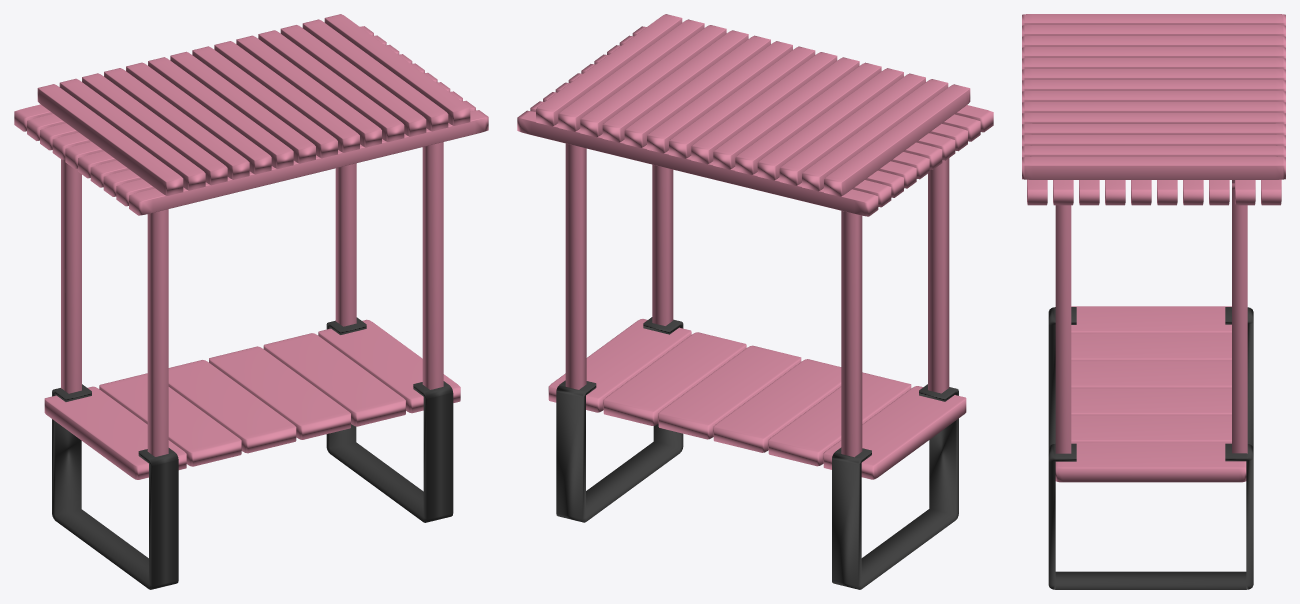
The model's file is ZONADEENTREGA_V3.fbx.
The picture shows the model from 3 angles, left to right: view 1: azimuth 30°, elevation 25°; view 2: azimuth 150°, elevation 25°; view 3: azimuth 270°, elevation 25°; orthographic projection.
Visible parts, largest first — view 1: Cube.008, Cube.002, Cube; view 2: Cube.008, Cube.002, Cube; view 3: Cube.008, Cube.002, Cube.
Part boxes in pixels (box(x1,y1,x2,y2)): Cube.008: box(14, 14, 488, 215); Cube.002: box(44, 317, 460, 589); Cube: box(61, 142, 443, 456); Cube.008: box(517, 14, 993, 216); Cube.002: box(548, 317, 966, 589); Cube: box(565, 143, 949, 457); Cube.008: box(1022, 14, 1285, 205); Cube.002: box(1048, 306, 1253, 589); Cube: box(1055, 180, 1247, 453).
Bounding box in the file's own units: 433 × 494 × 277.
